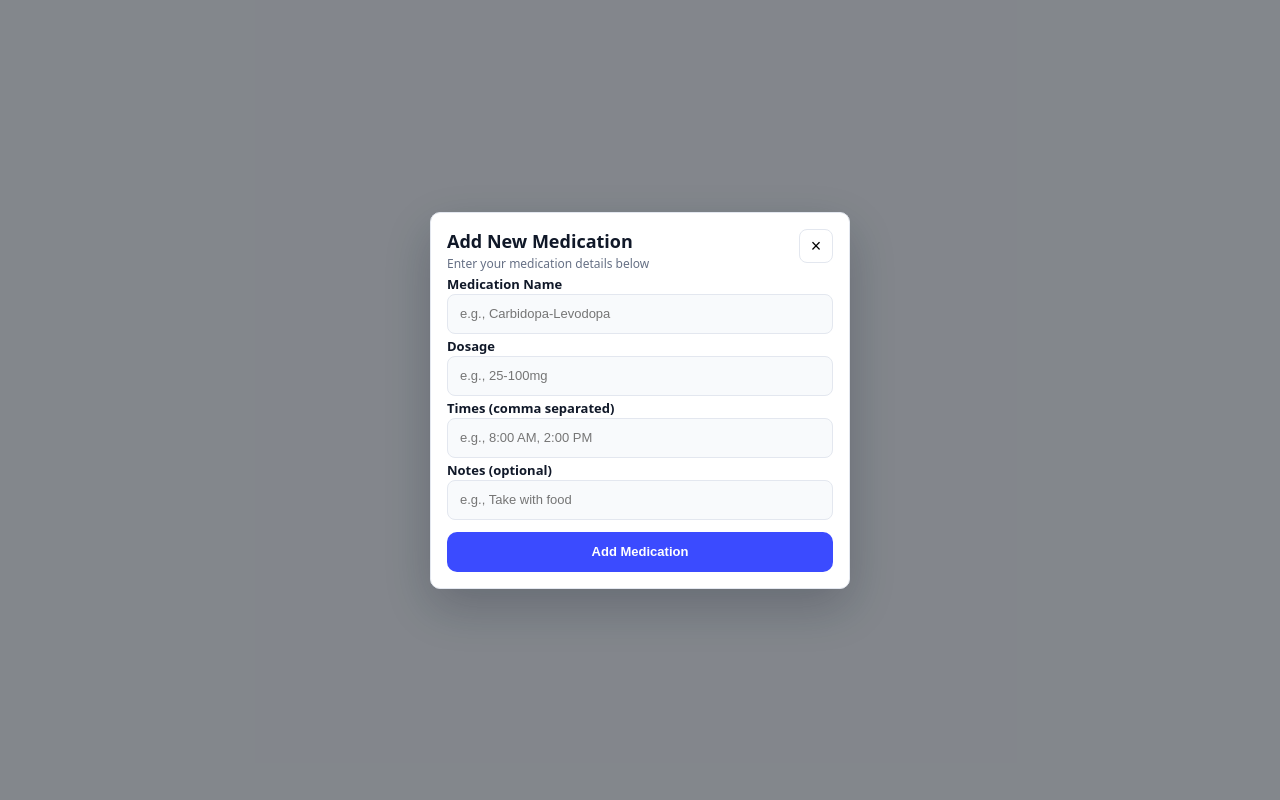
Test: AddMedicationModal interactive test › shows validation error when medication name is missing
Click the button "Add Medication". click: (640, 552)
box: [447, 532, 833, 572]
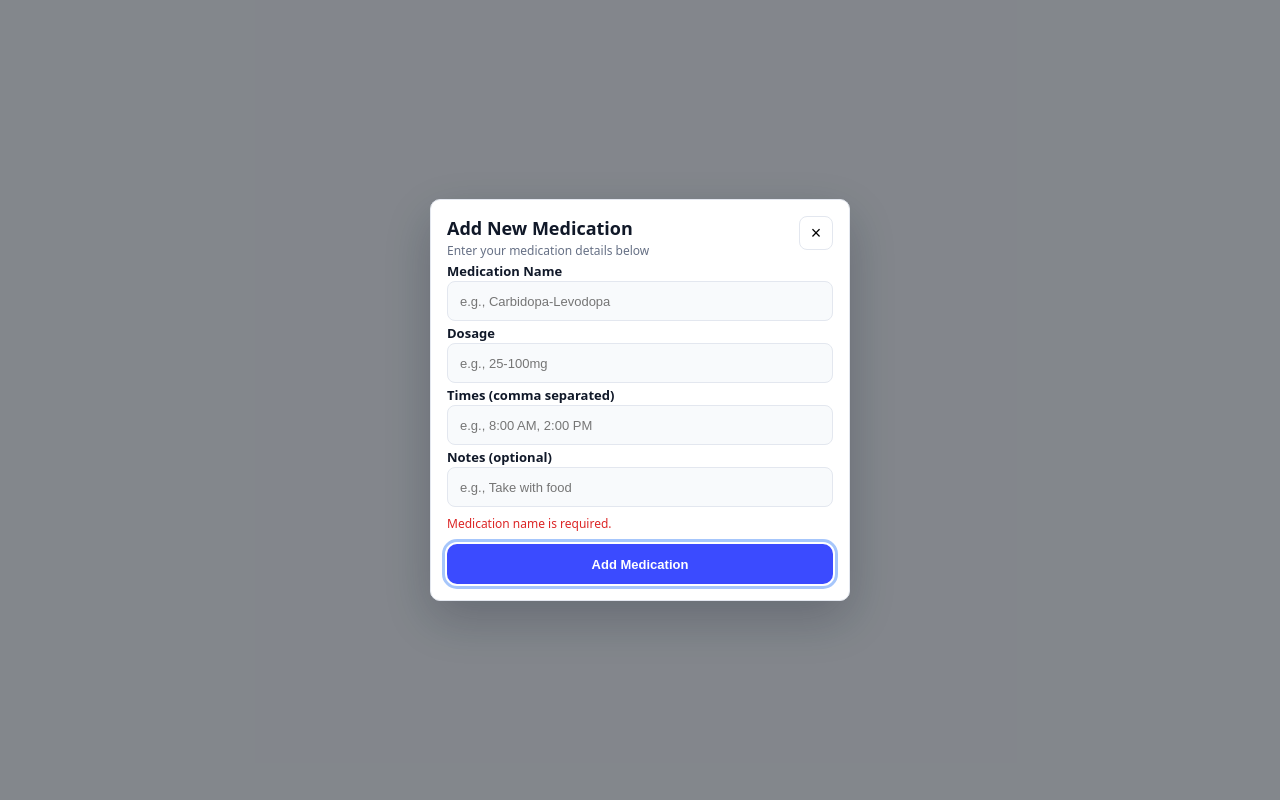
Result: the text "Medication name is required." is shown at [447, 515, 612, 532]
